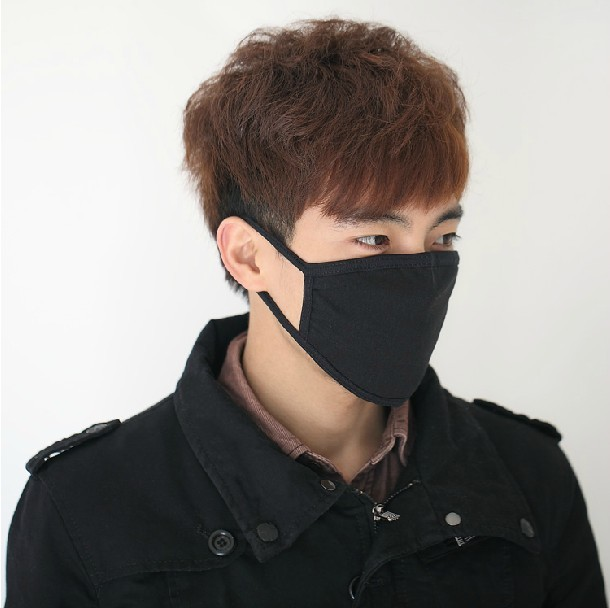face_mask: (278, 140, 463, 406)
